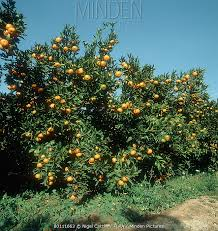orange: (113, 70, 123, 78)
